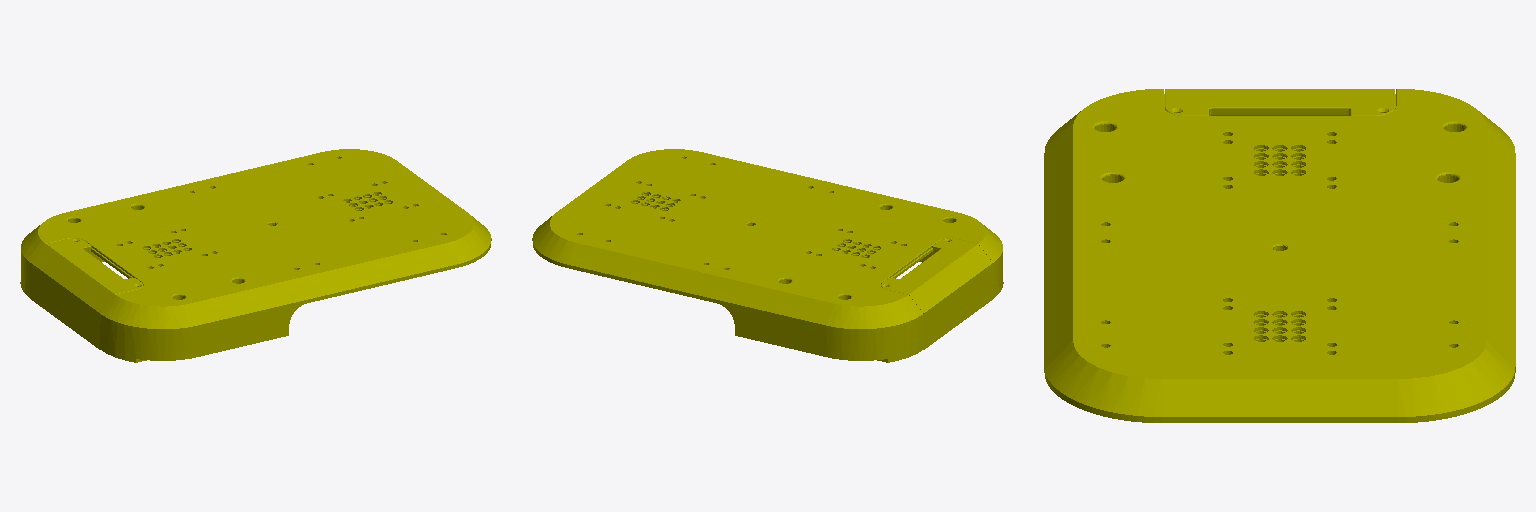
robot.urdf — myAGV:
<?xml version="1.0"?>
<robot xmlns:xacro="http://www.ros.org/wiki/xacro" name="myAGV">
    <link name="base_footprint">
        <visual>
            <geometry>
                <mesh filename="package://myagv_description/meshes/myagv_base.dae" scale="1 1 1"/>
            </geometry>
            <origin xyz="0.0 0.0 0.0" rpy="0.0 0.0 0.0"/>
            <material name="black">
                <color rgba="0.7 0.7 0.0 1.0"/>
            </material>
        </visual>   
    </link>

    <joint name="base_joint" type="fixed">
        <origin xyz="0.0 0.0 0.0" rpy="0 0 0"/>
        <parent link="base_footprint"/>
        <child link="base_link"/>
        <axis xyz="0 0 1"/>
    </joint>

    <link name="base_link">
        <visual>
            <geometry>
                <mesh filename="package://myagv_description/meshes/myagv_up.dae" scale="1 1 1"/>
            </geometry>
            <origin xyz="0.0 0.0 0.0" rpy="0.0 0.0 0.0"/>
            <material name="black">
                <color rgba="0.7 0.7 0.0 1.0"/>
            </material>
        </visual>   
    </link>

</robot>

--- What the picture shows (computed from the rendered views, not written in the file) ---
The picture shows the robot from 3 angles, left to right: view 1: azimuth 30°, elevation 25°; view 2: azimuth 150°, elevation 25°; view 3: azimuth 270°, elevation 25°; orthographic projection.
Robot: myAGV — 2 links, 1 joints (1 fixed); root link base_footprint; default pose: all joints at 0.
Visible links, largest first — view 1: base_link; view 2: base_link; view 3: base_link.
Link boxes in pixels (<box>): base_link: <box>20,149,491,362</box>; base_link: <box>532,149,1003,362</box>; base_link: <box>1044,89,1515,422</box>.
Bounding box of the posed robot: 0.3114 × 0.2 × 0.0409 m (x, y, z).
Meshes: 2 distinct files referenced, 1 mesh visuals loaded (1 Collada DAE); not drawn: 1 (reference not matched to a file when rendering).